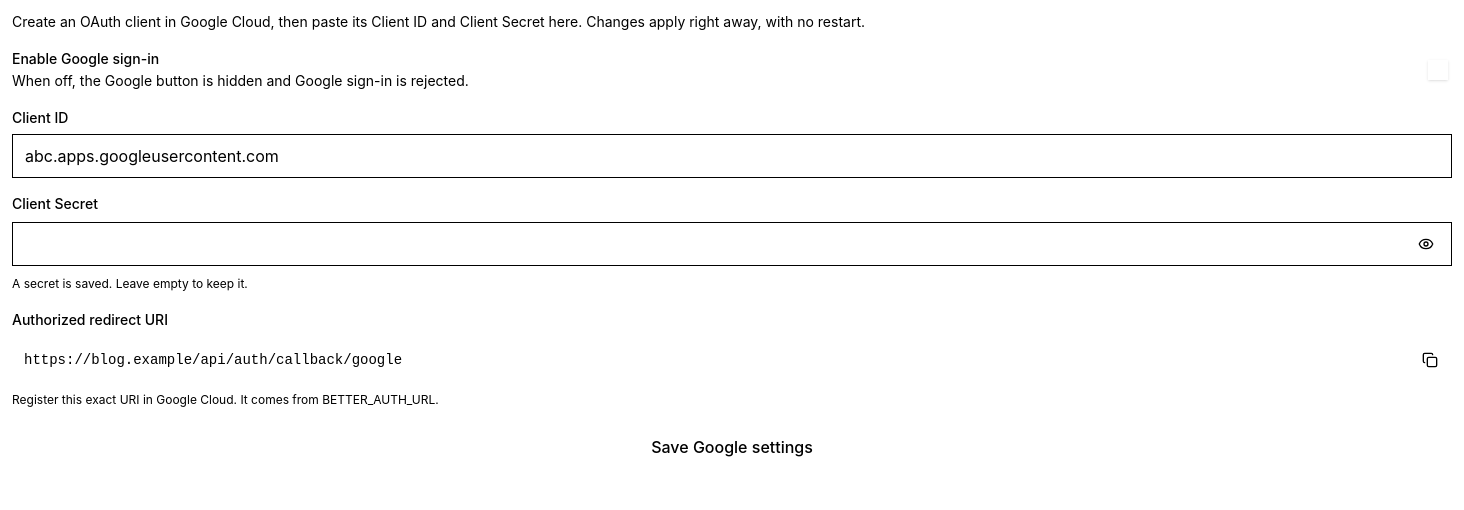
Test: GoogleSignInSettingsForm › Given a 422 answer, should show the invalid alert
The image size is (1464, 510).
Click the button "Save Google settings": {"x": 732, "y": 447} [12,425,1452,469]
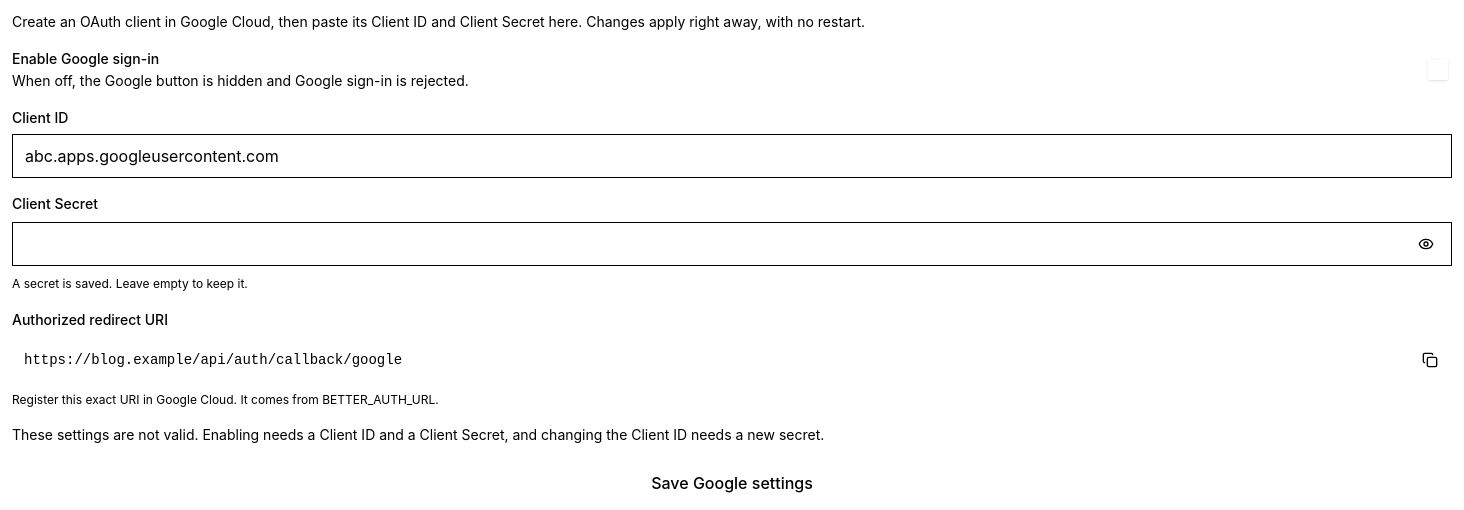
Expected: the message shows "These settings are not valid", [12,426,824,443]
